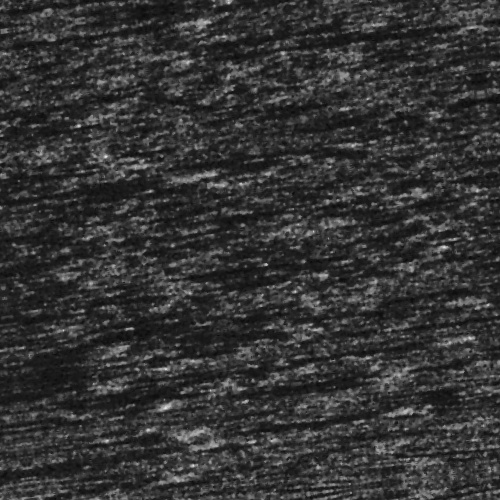object: (366, 202, 419, 223), (476, 42, 500, 63), (198, 12, 229, 17)
shadow: (262, 42, 500, 63), (330, 202, 393, 223), (0, 12, 213, 17), (253, 37, 387, 40)
